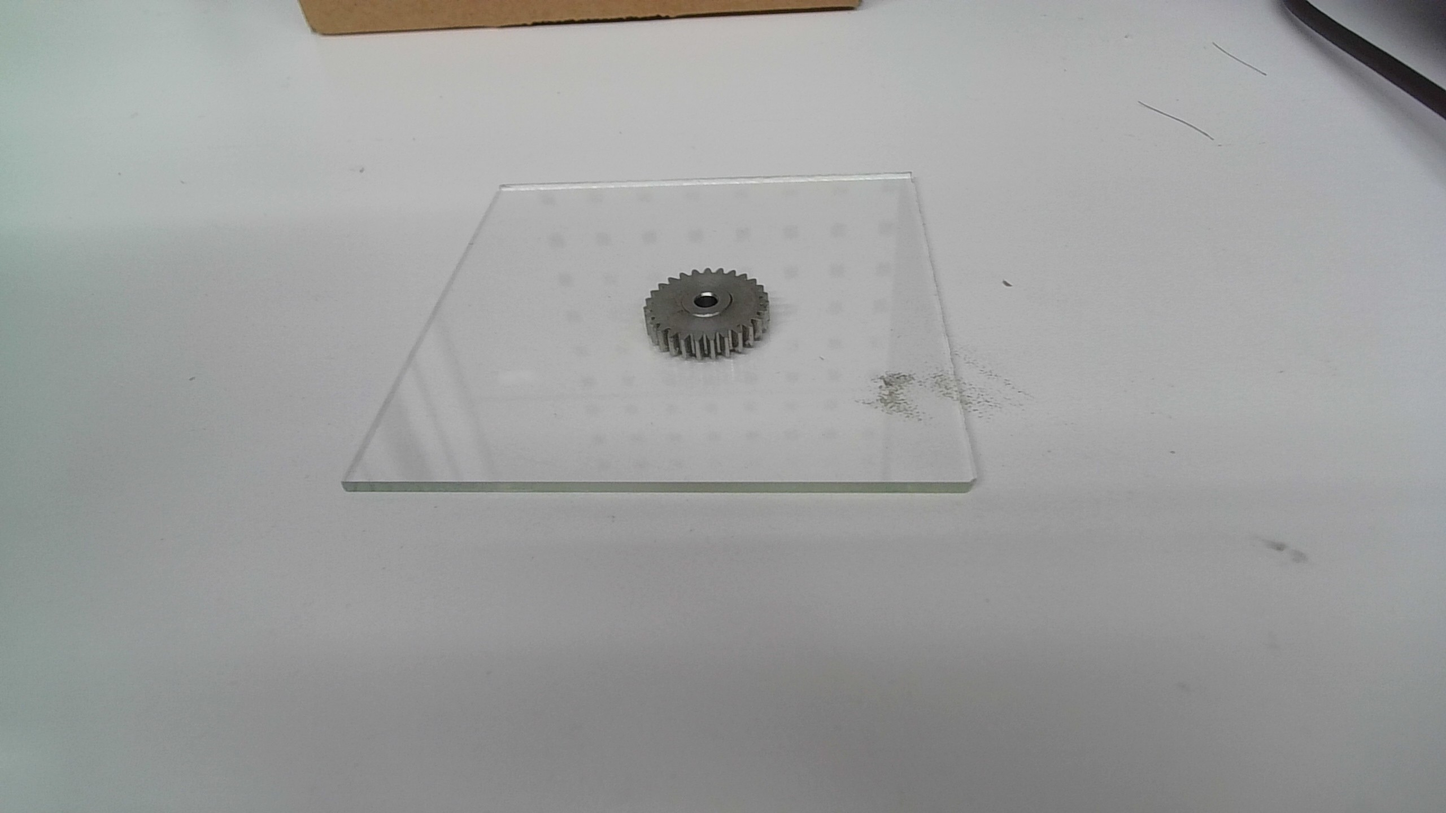gear: (641, 266, 773, 363)
